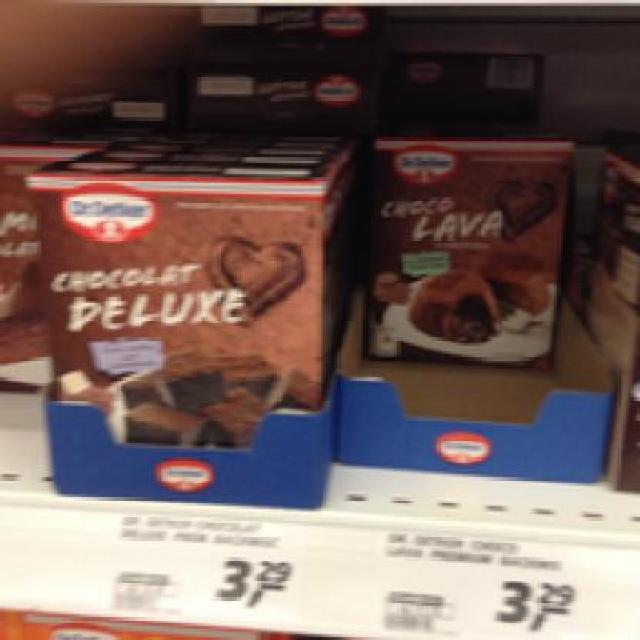Cake: (20, 151, 329, 500), (357, 128, 580, 378)
